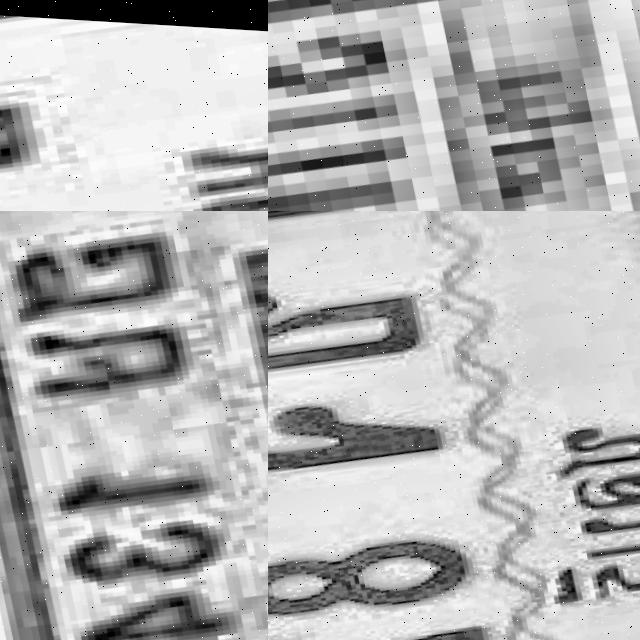license-plate: (268, 211, 640, 640), (0, 211, 268, 640), (268, 0, 640, 211), (0, 0, 268, 211)
